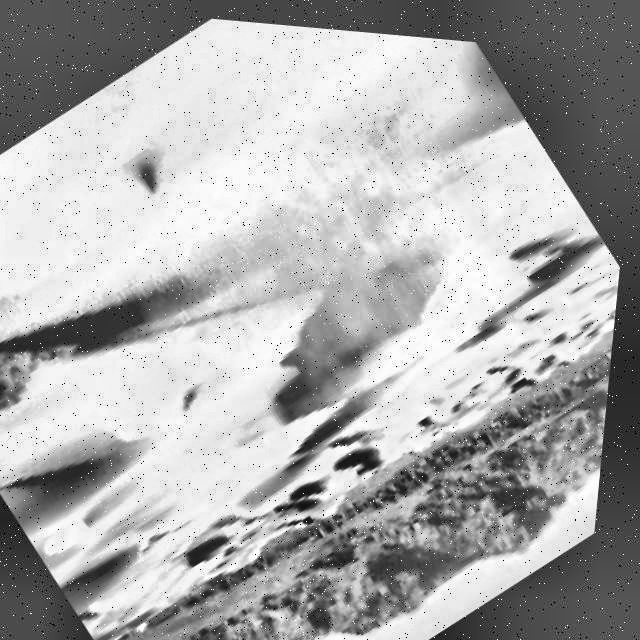Smoke: (74, 26, 589, 541)
